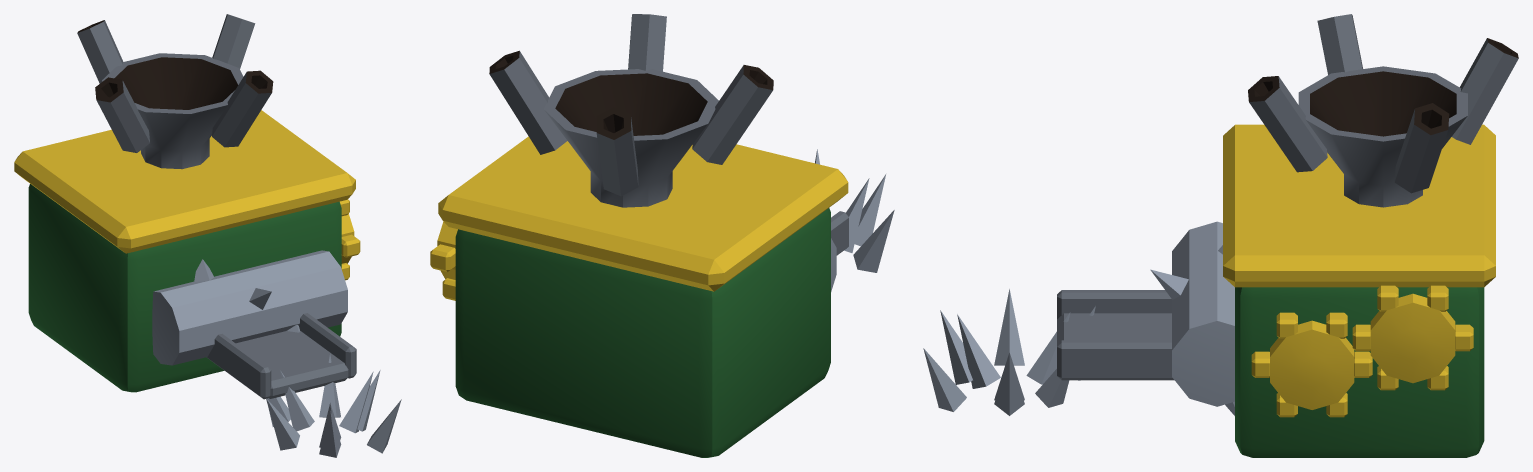
3 renders of one model, left to right at view 1: azimuth 30°, elevation 25°; view 2: azimuth 150°, elevation 25°; view 3: azimuth 270°, elevation 25°, orthographic. The views are drawn at different scales.
Parts seen in each view (by area): view 1: espinhos_0_base, espinhos_1_torreta; view 2: espinhos_0_base, espinhos_1_torreta; view 3: espinhos_0_base, espinhos_1_torreta.
Part boxes in pixels (x1=…): espinhos_0_base: x1=14, y1=14, x2=401, y2=457; espinhos_1_torreta: x1=206, y1=313, x2=356, y2=399; espinhos_0_base: x1=430, y1=14, x2=894, y2=457; espinhos_1_torreta: x1=831, y1=211, x2=848, y2=255; espinhos_0_base: x1=923, y1=14, x2=1518, y2=457; espinhos_1_torreta: x1=1057, y1=290, x2=1174, y2=380.
Bounding box in the file's own units: 0.596 × 0.6331 × 1.
